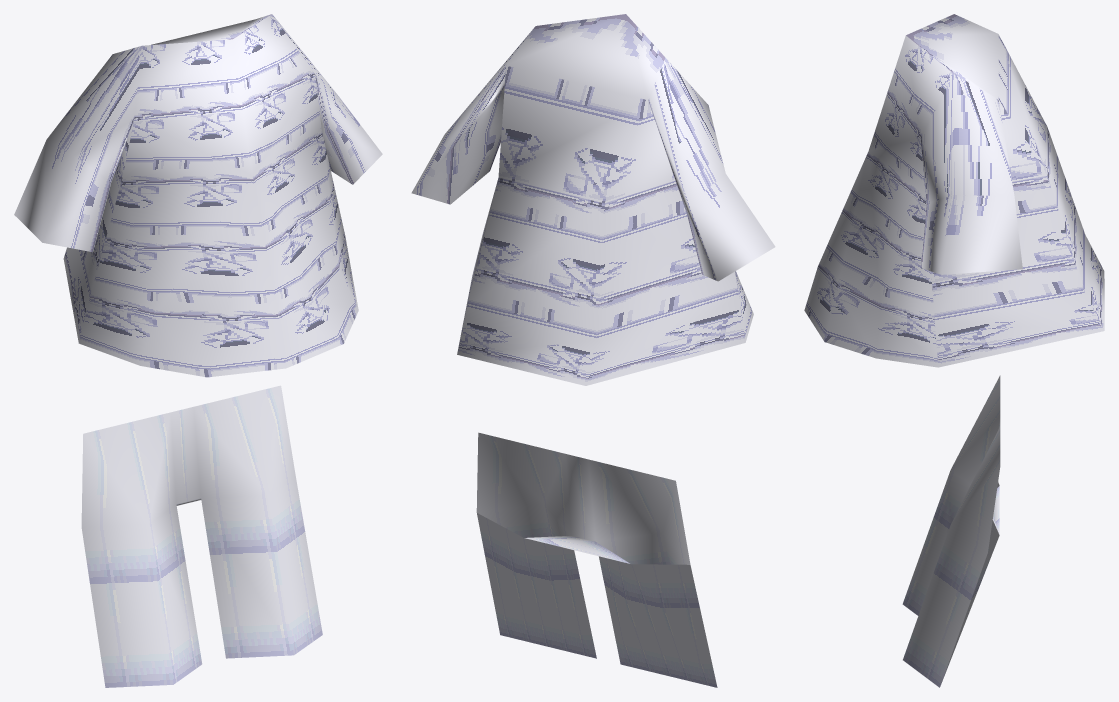
The model's file is 1746cl_set_bot.gltf.
3 views of the same model, side by side, from view 1: azimuth 30°, elevation 25°; view 2: azimuth 150°, elevation 25°; view 3: azimuth 270°, elevation 25° (orthographic). The views are drawn at different scales.
Visible parts, largest first — view 1: 1746cl_set_bot; view 2: 1746cl_set_bot; view 3: 1746cl_set_bot.
Boxes of the visible parts, x1,y1,x2,y2 form: 1746cl_set_bot: (14,14,382,687); 1746cl_set_bot: (411,14,775,687); 1746cl_set_bot: (804,14,1104,687).
Bounding box in the file's own units: 1.09 × 1.96 × 0.8848.
Materials: 2 (2 with a texture image).
